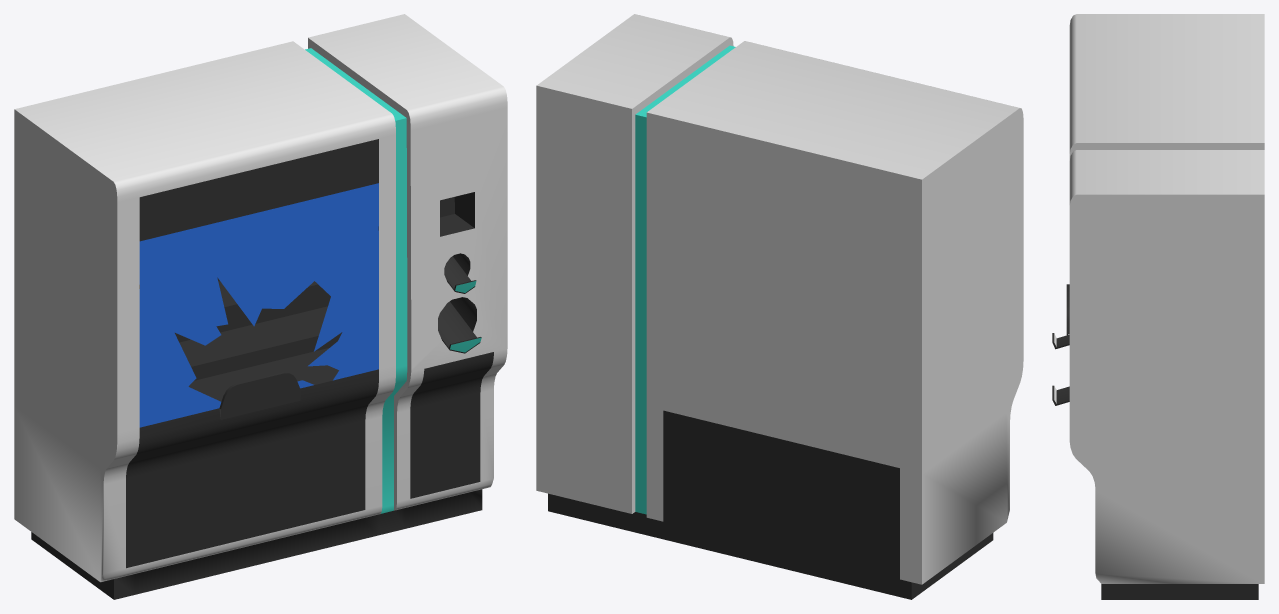
The model's file is Vending Machine Destroyed.fbx.
The picture shows the model from 3 angles, left to right: view 1: azimuth 30°, elevation 25°; view 2: azimuth 150°, elevation 25°; view 3: azimuth 270°, elevation 25°; orthographic projection. The views are drawn at different scales.
Visible parts, largest first — view 1: Vending Destroyed; view 2: Vending Destroyed; view 3: Vending Destroyed.
Boxes of the visible parts, x1,y1,x2,y2 form: Vending Destroyed: (14, 14, 507, 599); Vending Destroyed: (536, 14, 1023, 599); Vending Destroyed: (1052, 14, 1264, 599).
Bounding box in the file's own units: 1.8 × 1.9 × 0.8934.
